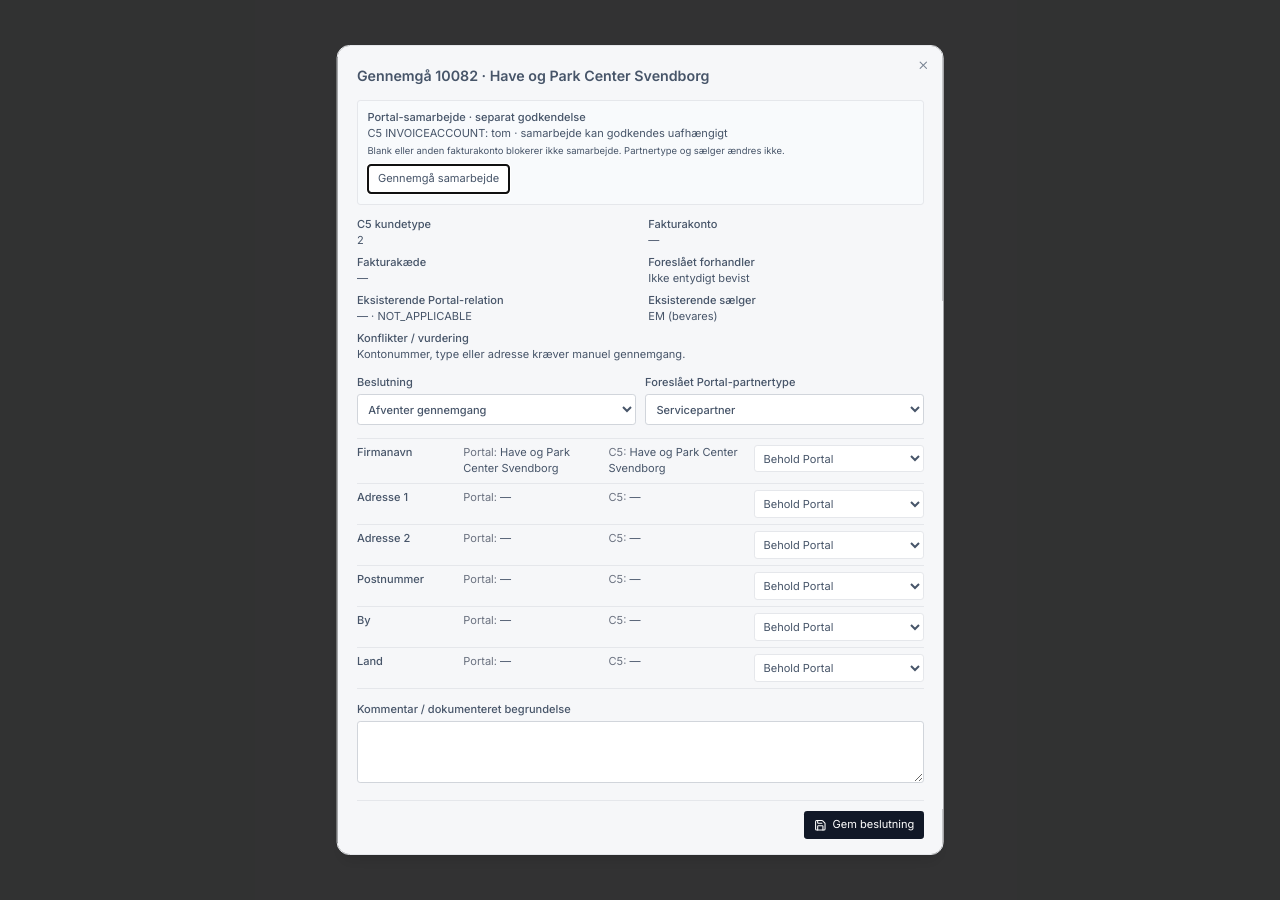
Test: opens the real separate cooperation approval from Servicepartner review with blank invoice, preserving profile review
Later steps or results of the test are not shown.
Expected: the text "EM (bevares)" is shown, [648,309,717,323]
Click the button "Gennemgå samarbejde" at (438, 179), box [367,164,509,194]
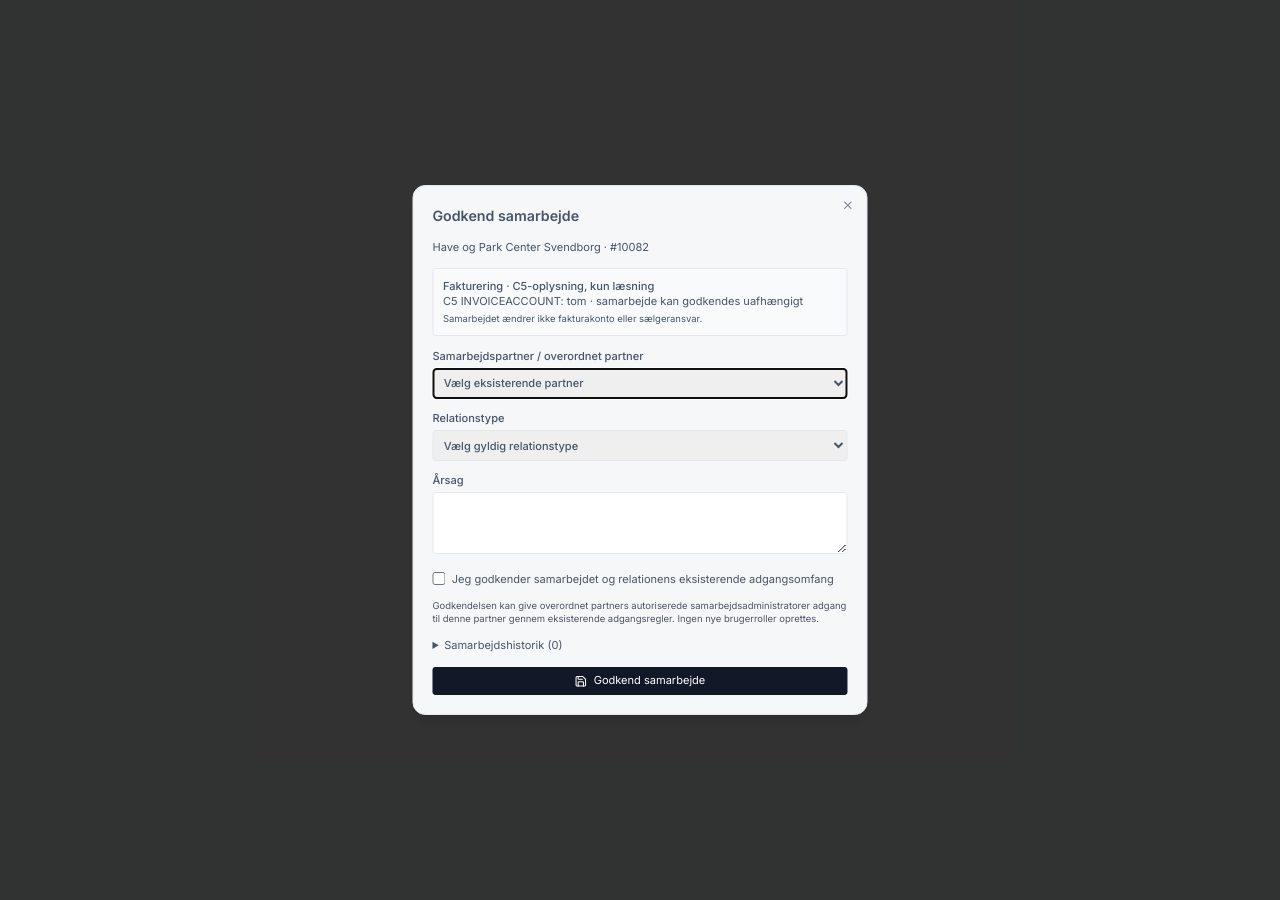
Expected: the heading "Samarbejdshistorik (0)" is shown, [444,638,562,652]
Expected: the dropdown labelled "Samarbejdspartner / overordnet partner" shows "Vælg eksisterende partner"
Select "10151 · Reesink Turfcare A/S" in the dropdown labelled "Samarbejdspartner / overordnet partner" at (640, 383), box [432,368,848,399]
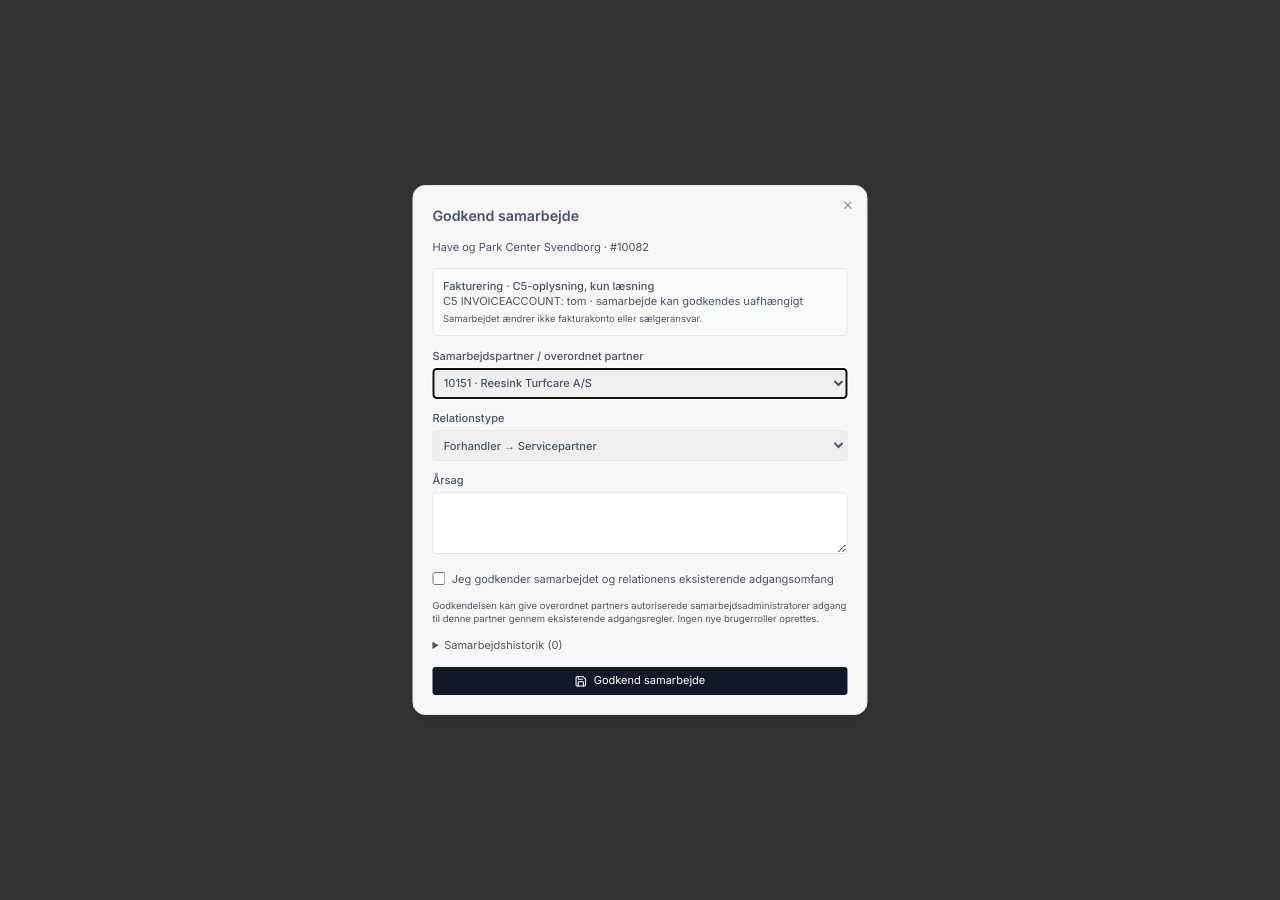
Expected: the dropdown labelled "Relationstype" shows "Forhandler → Servicepartner", [432,430,848,461]
